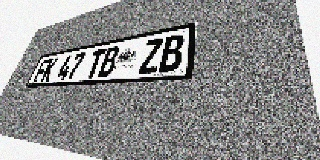4: (55, 54, 75, 81)
7: (65, 52, 86, 80)
B: (158, 33, 185, 72), (97, 46, 120, 77)
F: (32, 59, 50, 82)
K: (40, 57, 59, 82)
T: (84, 48, 107, 78)
Z: (138, 37, 164, 74)
